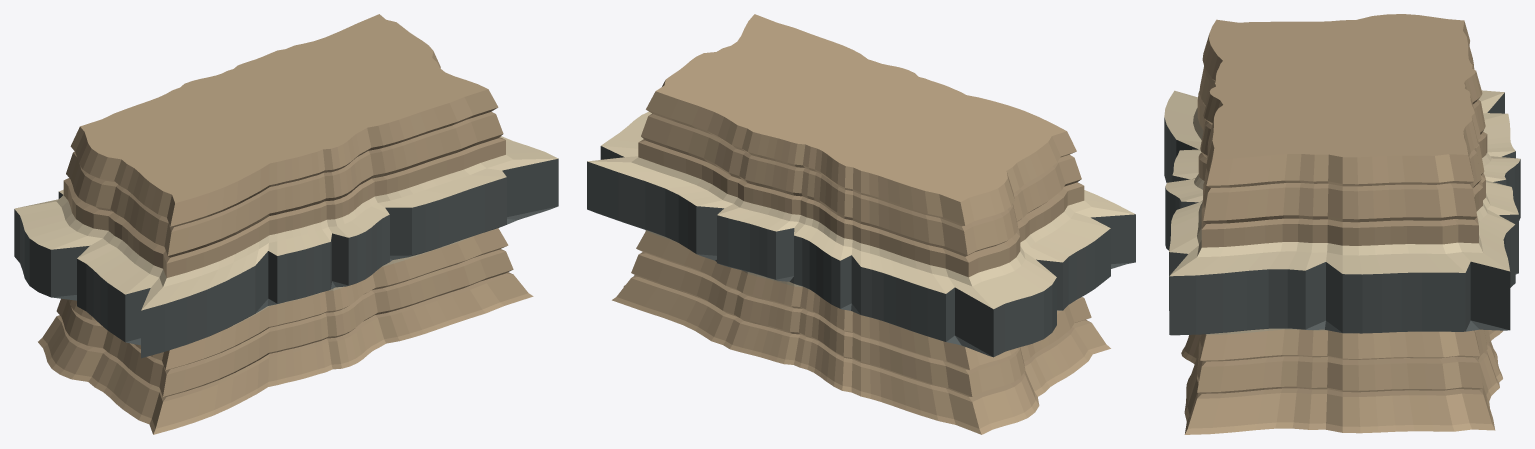
3 renders of one model, left to right at view 1: azimuth 30°, elevation 25°; view 2: azimuth 150°, elevation 25°; view 3: azimuth 270°, elevation 25°, orthographic. The views are drawn at different scales.
Parts seen in each view (by area): view 1: integrated_dipping_sill_ledge_host; view 2: integrated_dipping_sill_ledge_host; view 3: integrated_dipping_sill_ledge_host.
Boxes of the visible parts, left/top/right/bottom form: integrated_dipping_sill_ledge_host: left=14, top=14, right=558, bottom=434; integrated_dipping_sill_ledge_host: left=587, top=14, right=1135, bottom=434; integrated_dipping_sill_ledge_host: left=1164, top=14, right=1520, bottom=434.
Bounding box in the file's own units: 14 × 8.07 × 8.23.
